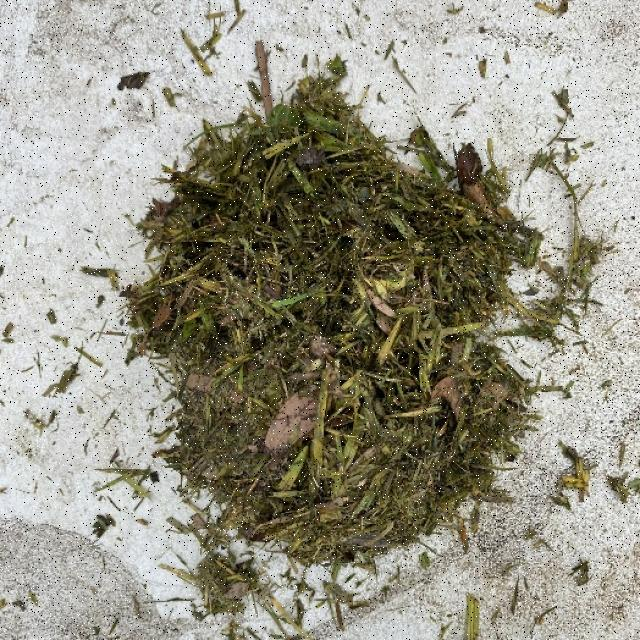organik: (142, 89, 528, 569)
